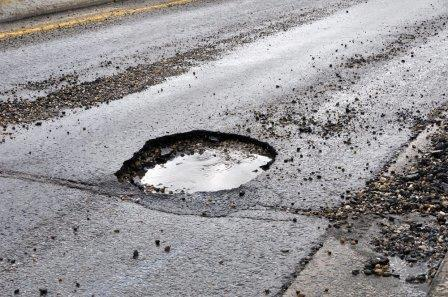pothole: (108, 117, 282, 197)
